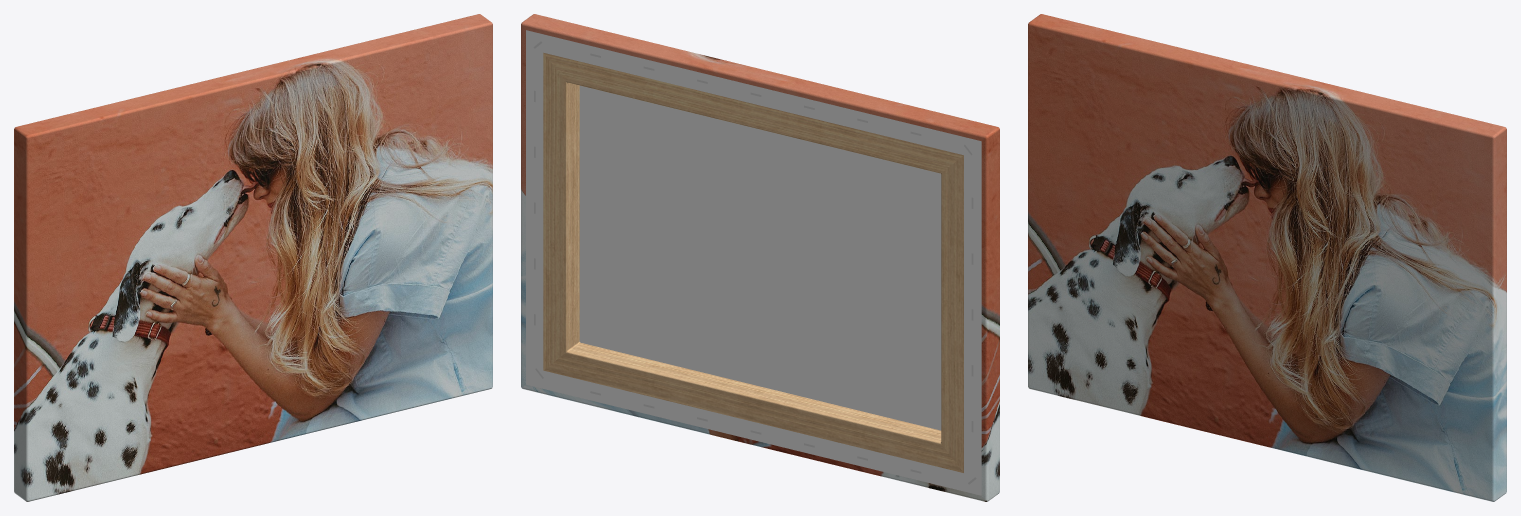
File: canvas-landscape-motif.glb
3 views of the same model, side by side, from view 1: azimuth 30°, elevation 25°; view 2: azimuth 150°, elevation 25°; view 3: azimuth 330°, elevation 25° (orthographic).
Parts seen in each view (by area): view 1: Canvas_Motif; view 2: Canvas_White_Backside, Canvas_Frame, Canvas_White, Canvas_Motif, Canvas_Staples; view 3: Canvas_Motif.
Part boxes in pixels (x1,y1,x2,y2): Canvas_Motif: [14, 14, 492, 501]; Canvas_White_Backside: [579, 85, 941, 430]; Canvas_Frame: [543, 52, 963, 472]; Canvas_White: [526, 30, 981, 495]; Canvas_Motif: [521, 14, 999, 501]; Canvas_Staples: [533, 41, 976, 484]; Canvas_Motif: [1028, 14, 1506, 501].
Bounding box in the file's own units: 0.4 × 0.3 × 0.0202.
4 materials, 2 textured.
